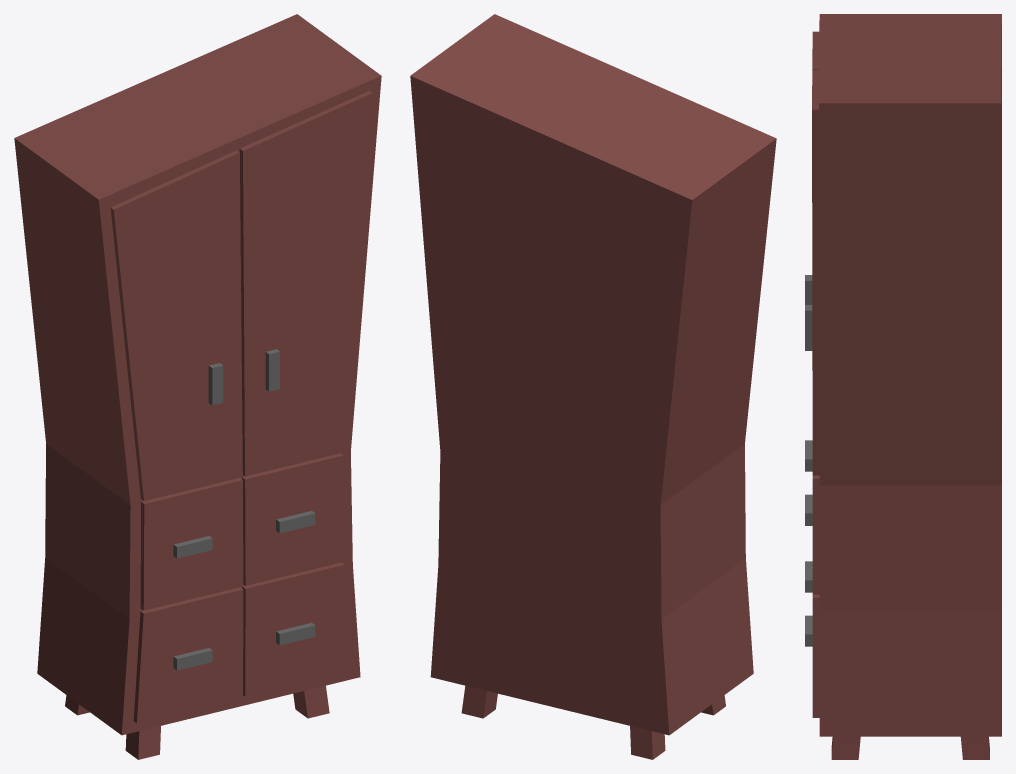
The model's file is Wardrobe.glb.
The picture shows the model from 3 angles, left to right: view 1: azimuth 30°, elevation 25°; view 2: azimuth 150°, elevation 25°; view 3: azimuth 270°, elevation 25°; orthographic projection. The views are drawn at different scales.
Visible parts, largest first — view 1: Wardrobe; view 2: Wardrobe; view 3: Wardrobe.
Boxes of the visible parts, left/top/right/bottom form: Wardrobe: left=14, top=14, right=381, bottom=759; Wardrobe: left=410, top=14, right=776, bottom=759; Wardrobe: left=805, top=14, right=1001, bottom=759.
Bounding box in the file's own units: 0.9663 × 2.06 × 0.5398.
